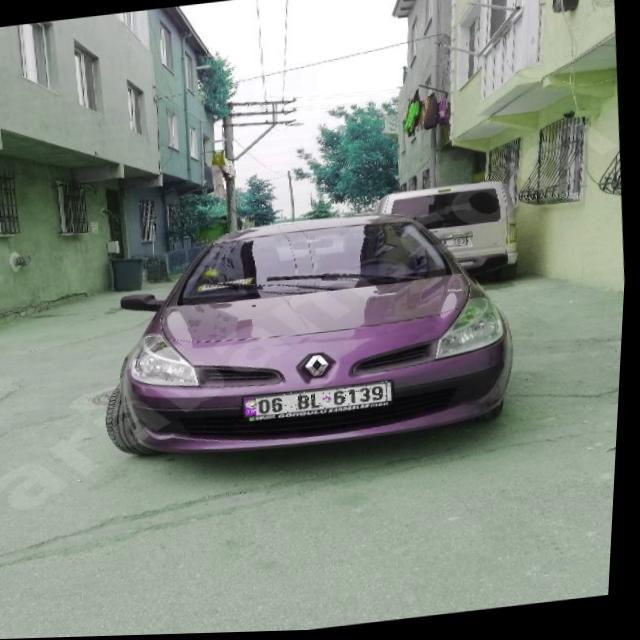license_plate: (248, 383, 396, 419)
